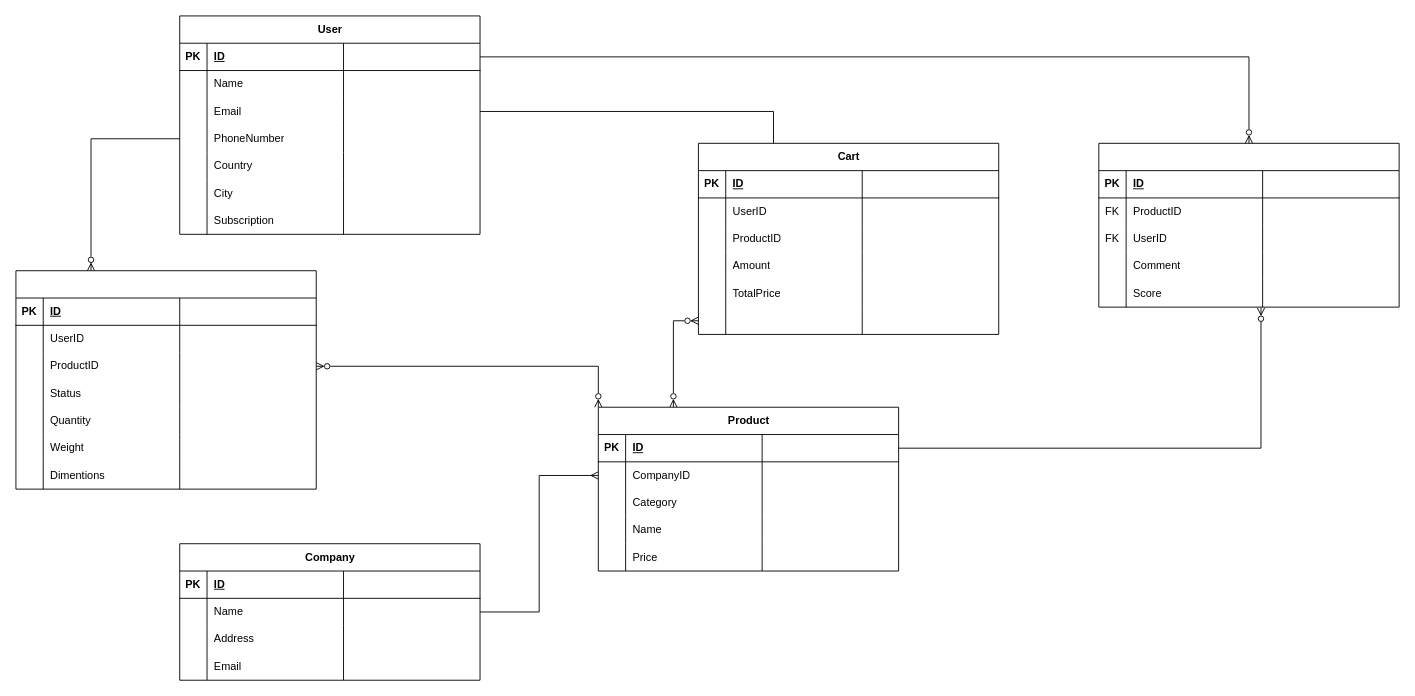
The diagram is 1415 pixels wide and 696 high, and some of its shapes have lost their labels. Each missing label, with the box of its shape:
Order: (15, 270, 316, 489)
Reveiw: (1098, 142, 1399, 307)
